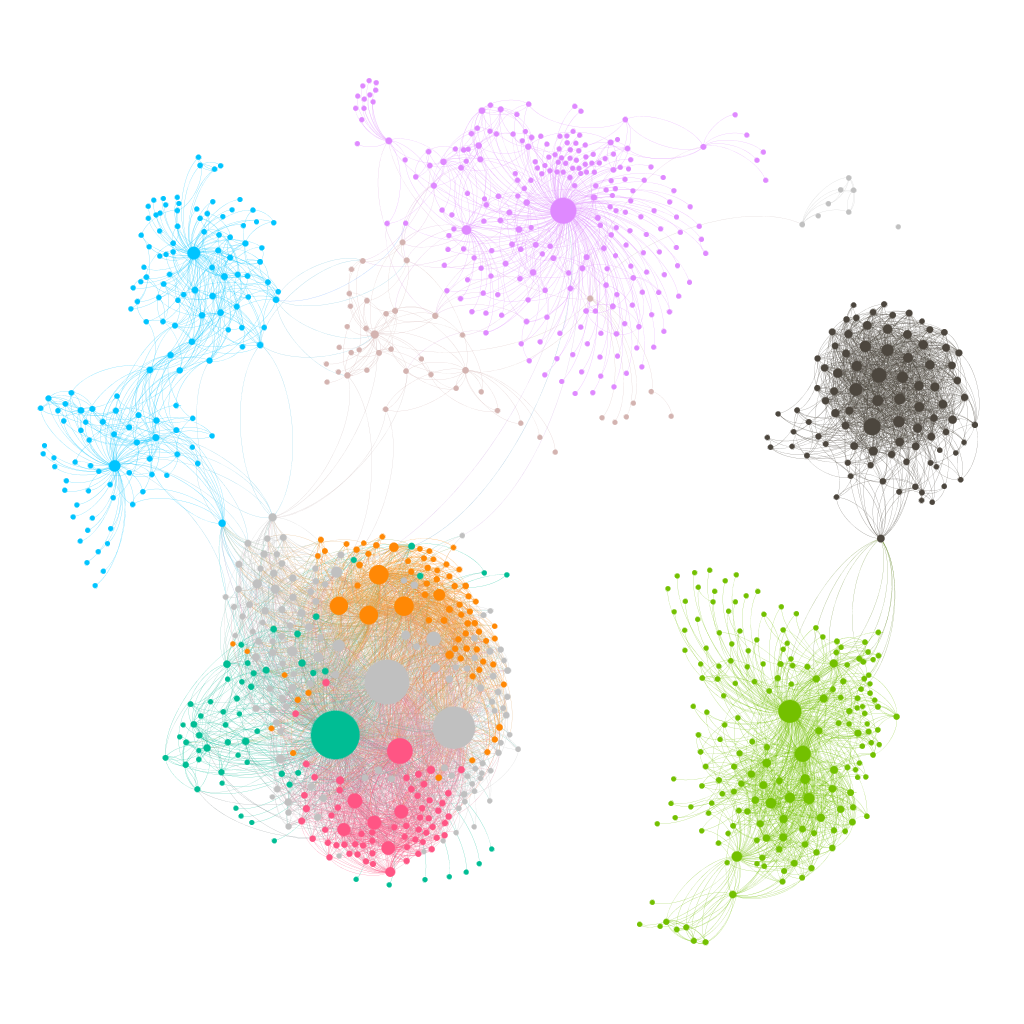

This screenshot's page, from the dashboard's own definition file:
{"tool":"tableau","page":{"name":"Dashboard 1","canvas":[1000,1000],"ordinal":0},"visuals":[{"type":"worksheet","title":"Model Specifications","mark":"Shape","rows":["Window Size","Score"],"cols":["Algorithm","Embedding Dimensions","Embedding Dimensions","Embedding Dimensions"],"box":[8,8,984,984]}]}

Visuals, with their boxes in screenshot pixels (x1, y1, x2, y2), scaled from the page's 1000x1000 canvas onto the 1024x1024 screenshot:
"Model Specifications" worksheet (Shape marks): 8:8:1016:1016
